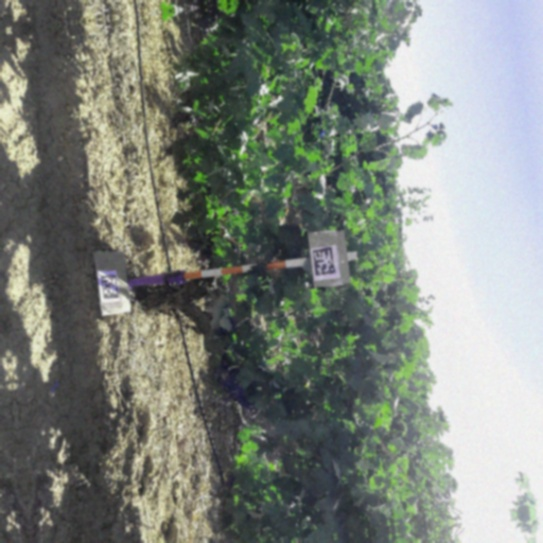QR: (312, 246, 336, 277), (101, 274, 119, 298)
